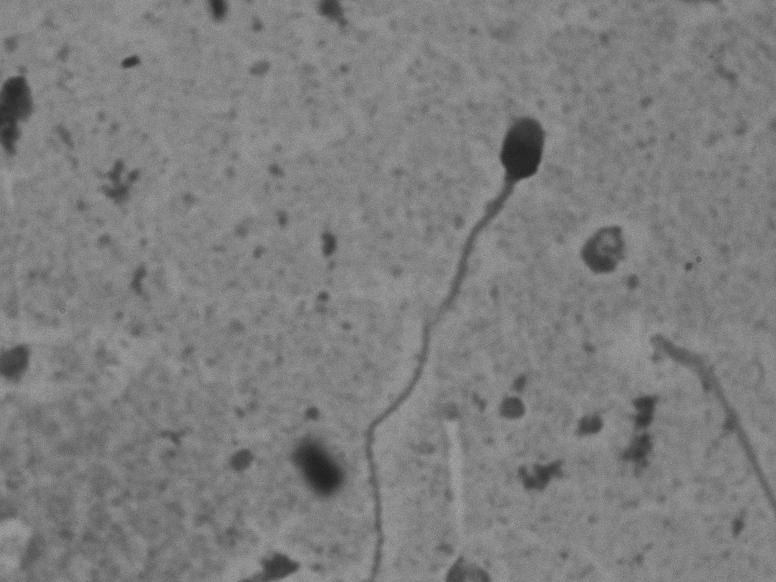Normal: (332, 102, 562, 569)
